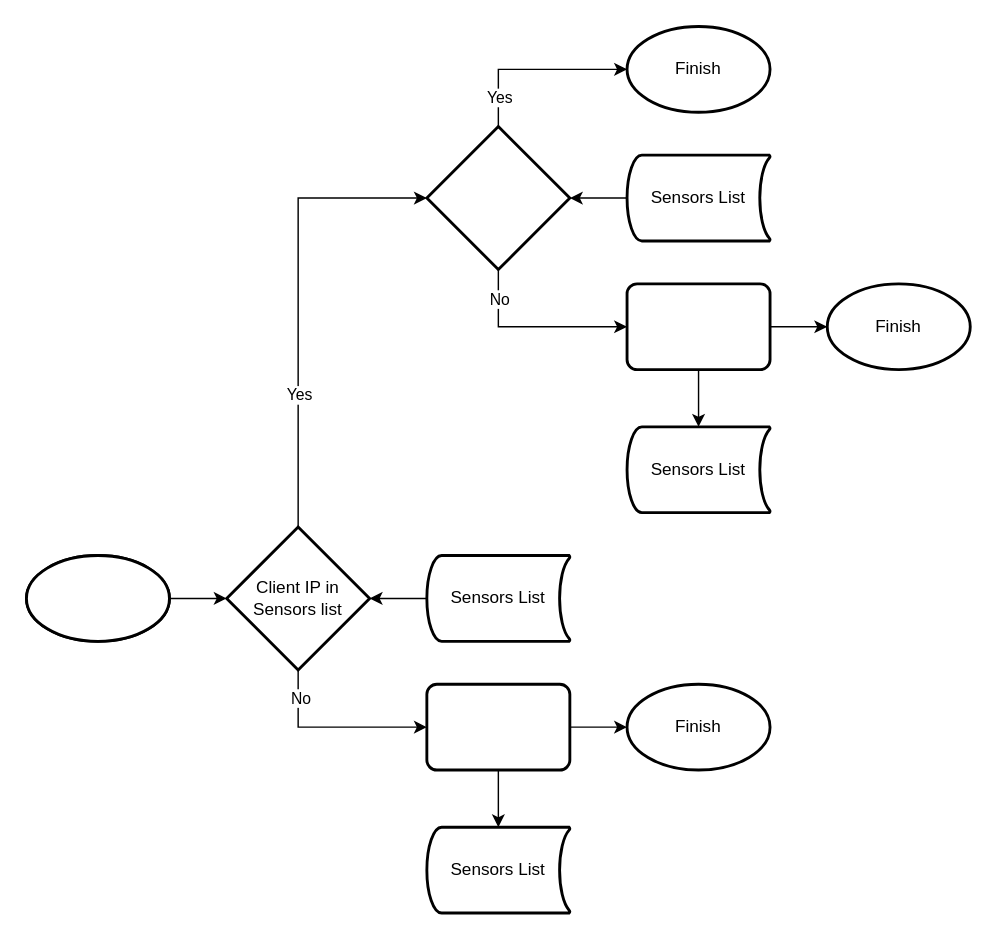
The diagram is 995 pixels wide and 938 high, and some of its shapes have lost their labels. Each missing label, with the centre of its shape:
"Incoming request" goes at (97,597).
"mac address of client ip maches saved in sensors list" goes at (498,197).
"Save request information" goes at (498,726).
"Update information" goes at (698,326).
